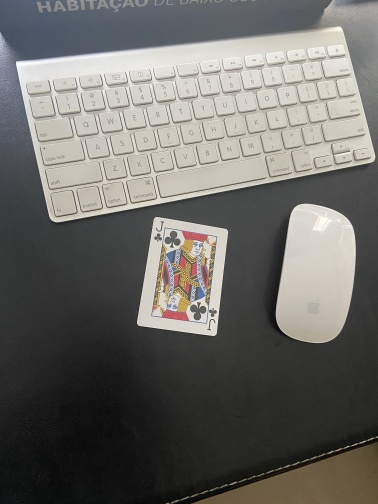jack: (135, 215, 231, 337)
